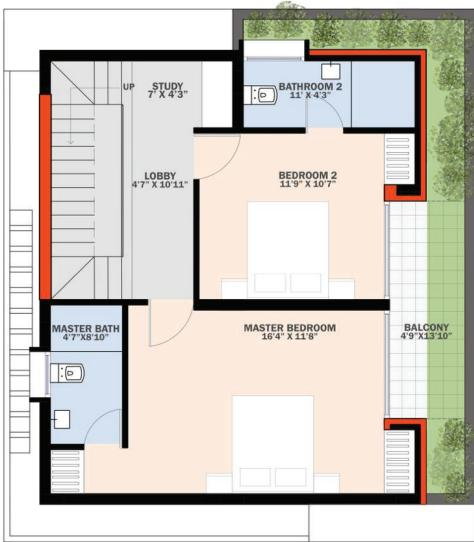Balcony: (241, 8, 469, 502)
Bed: (248, 202, 328, 299), (233, 396, 313, 492)
Bedroom: (84, 301, 417, 493), (195, 128, 389, 309)
Wardrobe: (385, 431, 413, 489), (384, 135, 415, 185), (51, 449, 83, 494)
commode: (245, 84, 278, 106), (51, 363, 85, 382)
door: (149, 303, 193, 351), (195, 135, 240, 179), (81, 409, 122, 451), (308, 92, 345, 130)
lobby: (125, 131, 197, 303)
sink: (55, 412, 71, 432), (322, 65, 341, 78)
study: (122, 62, 233, 129)
toilet: (244, 40, 418, 132), (46, 302, 130, 447)
